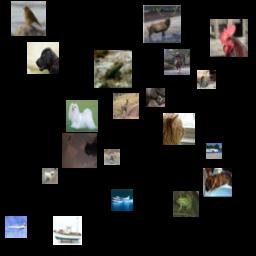airplane: (111, 189, 133, 211), (5, 216, 27, 238)
bird: (210, 19, 248, 57), (11, 1, 46, 36)
cat: (62, 133, 97, 168), (163, 113, 195, 145), (146, 88, 165, 107), (197, 70, 216, 89)
deer: (143, 5, 181, 43), (113, 93, 139, 119)
dog: (27, 42, 59, 74), (66, 100, 98, 132), (203, 168, 232, 197), (42, 168, 58, 184)
frog: (94, 50, 132, 88), (173, 191, 199, 217)
ship: (53, 216, 82, 245)
truck: (206, 143, 222, 159)
